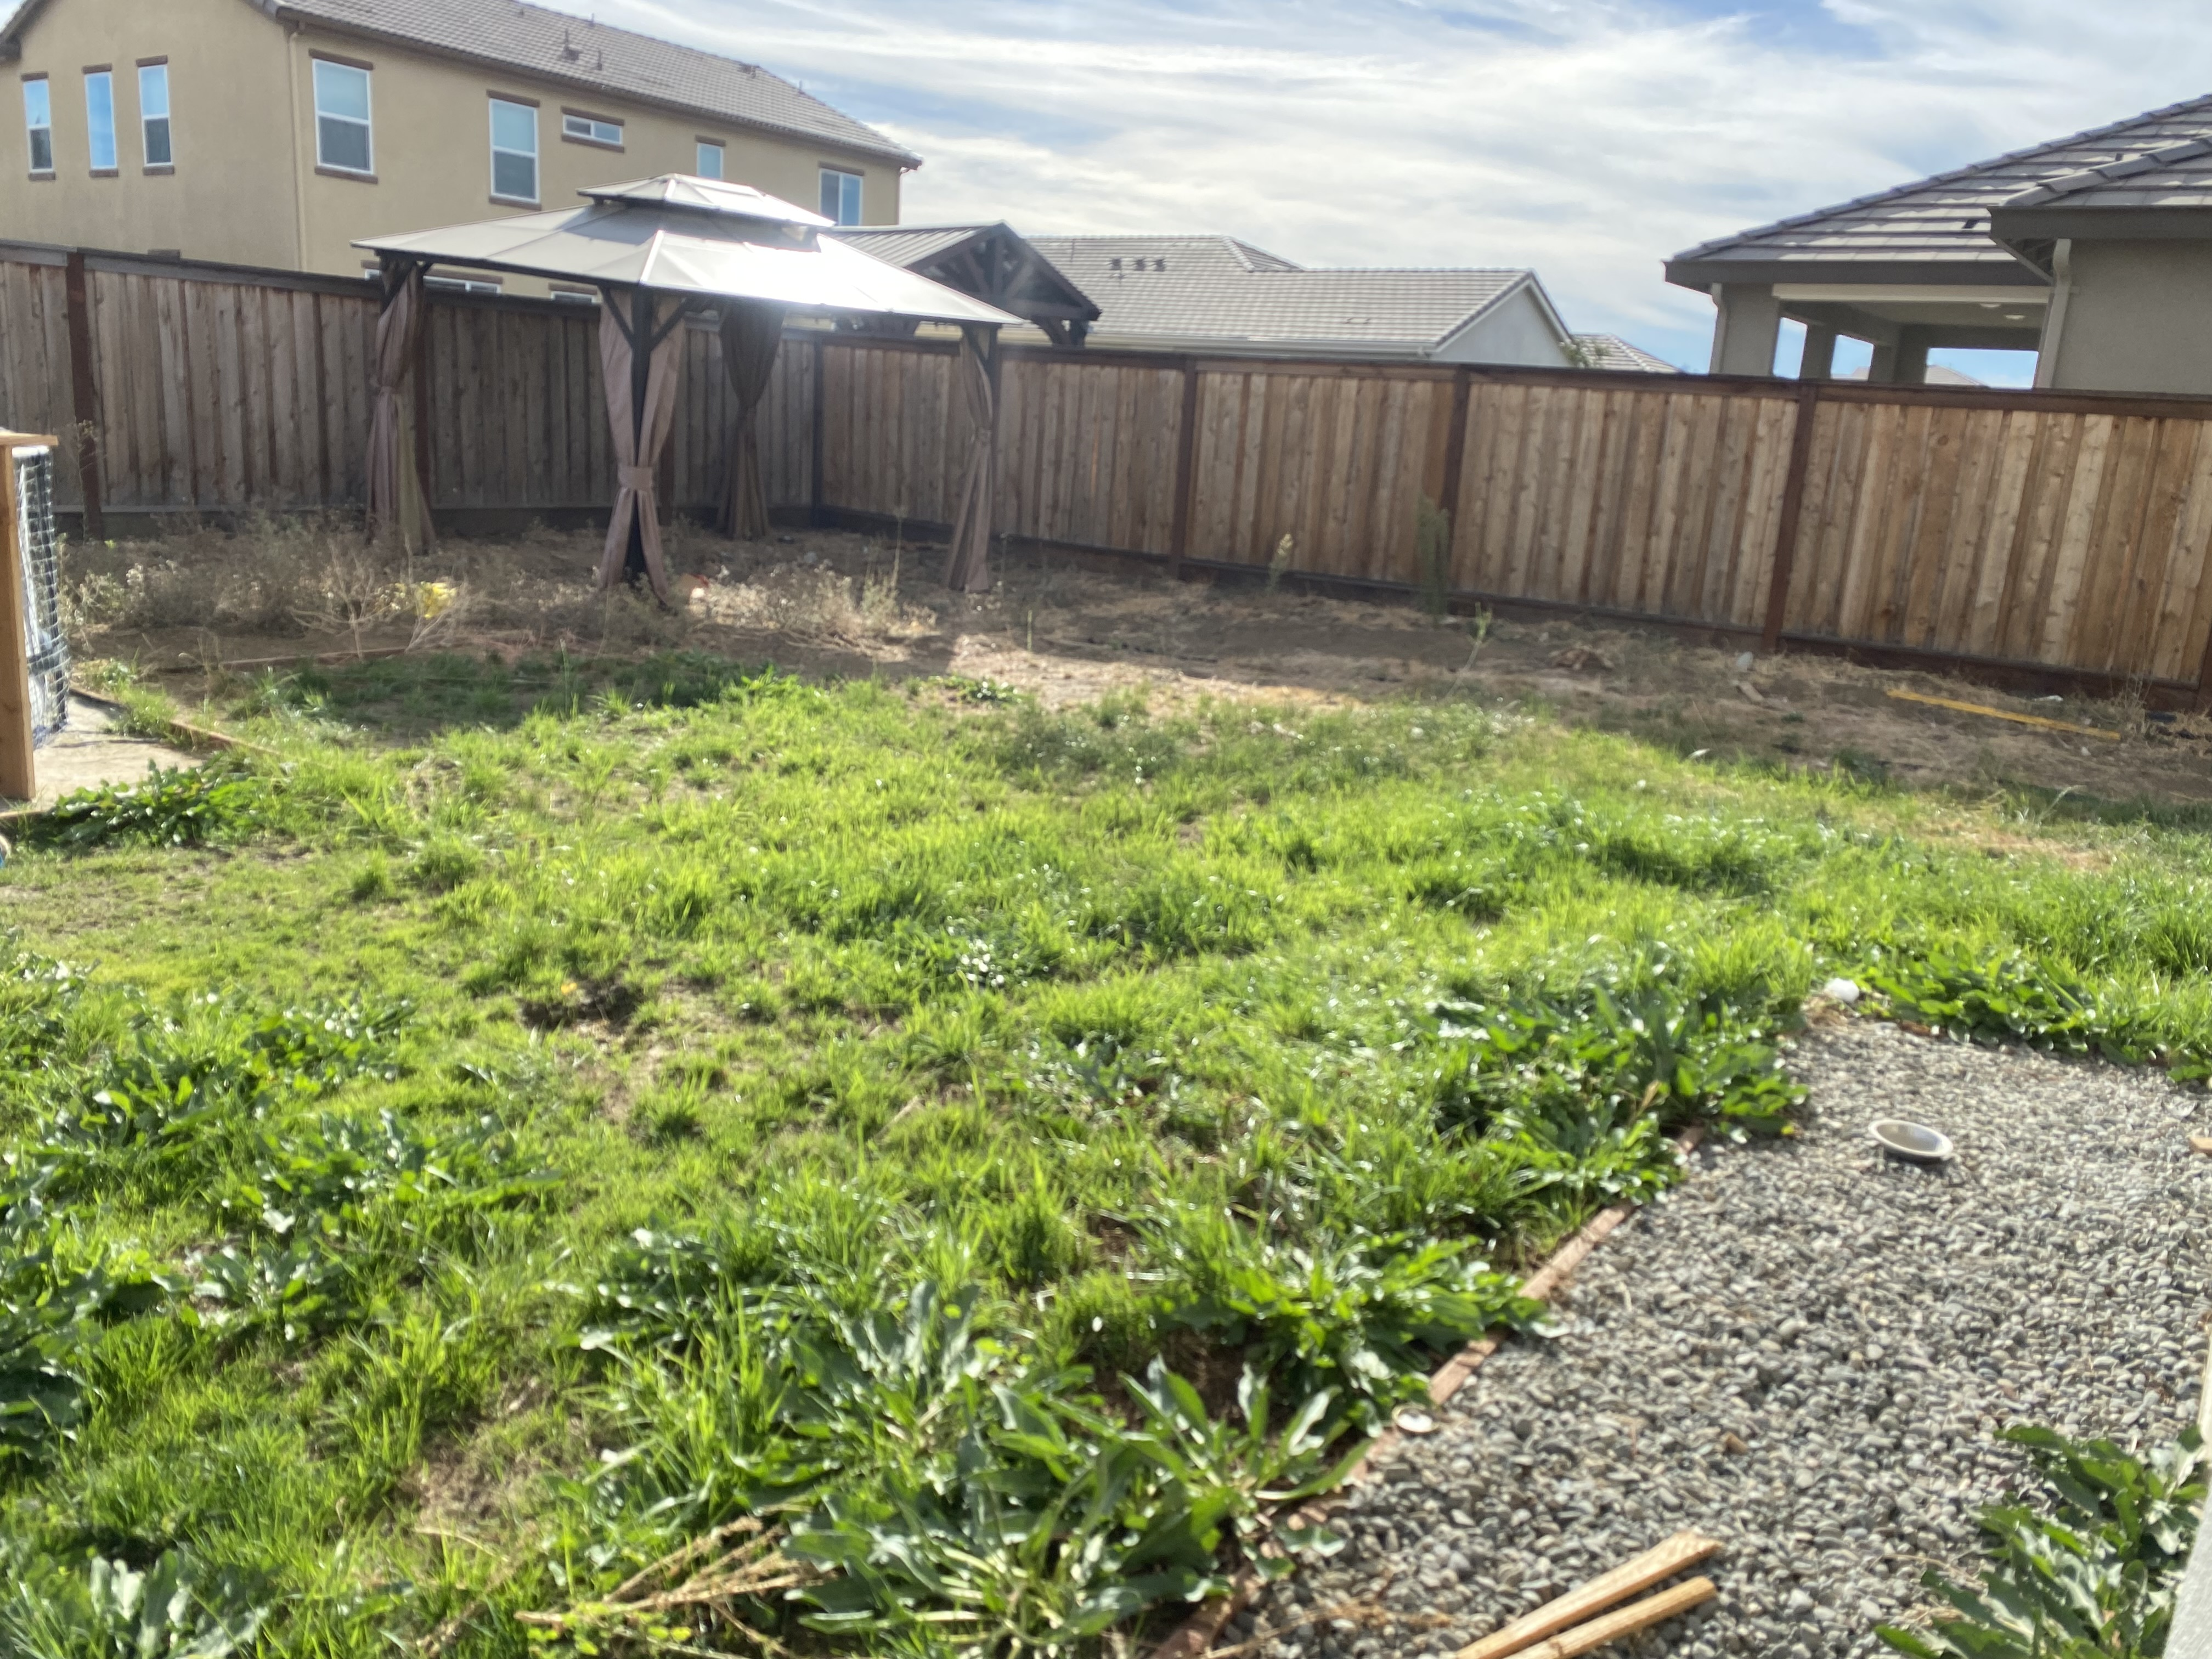weed: (719, 1314, 1254, 1659), (1494, 946, 1804, 1124), (68, 1551, 326, 1659), (85, 1053, 270, 1140), (66, 774, 246, 831)
